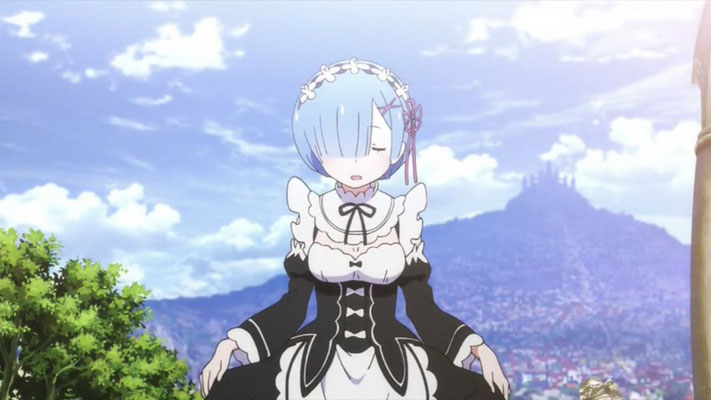rem: (210, 60, 514, 400)
